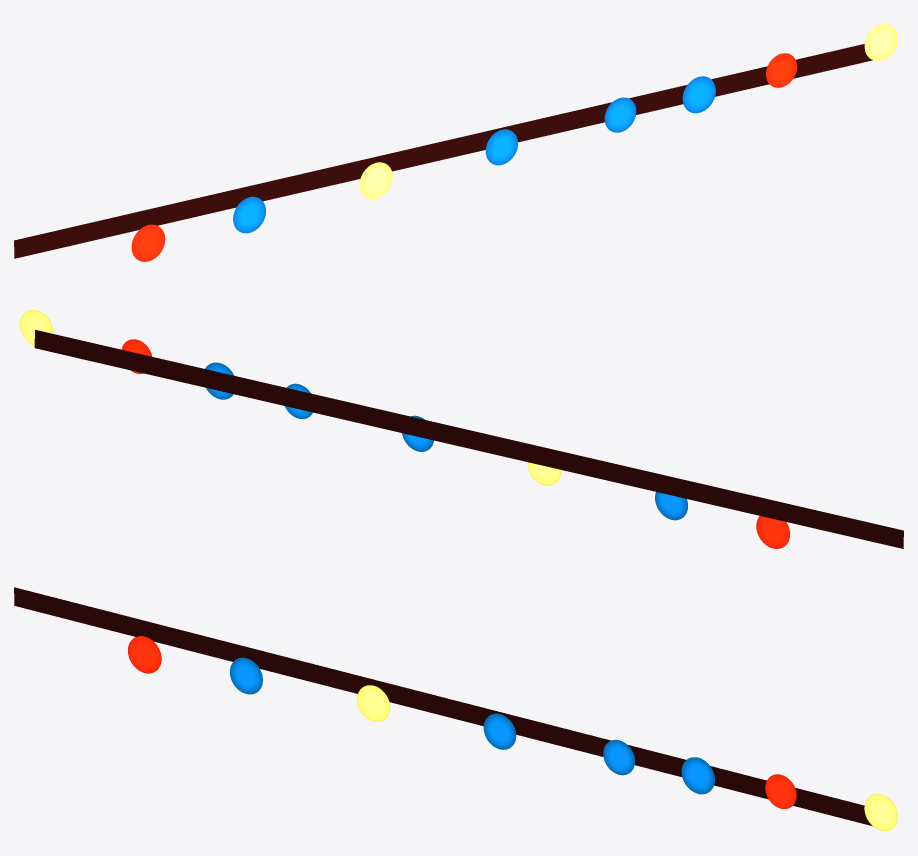
Rendered from Lights01_Art.fbx.
The picture shows the model from 3 angles, top to bottom: view 1: azimuth 30°, elevation 25°; view 2: azimuth 150°, elevation 25°; view 3: azimuth 330°, elevation 25°; orthographic projection.
Visible parts, largest first — view 1: Lights01_Art; view 2: Lights01_Art; view 3: Lights01_Art.
Part boxes in pixels (<box>): Lights01_Art: <box>14,24,897,261</box>; Lights01_Art: <box>20,310,903,548</box>; Lights01_Art: <box>14,587,897,830</box>.
Size of the model in its own units: 2.97 by 0.2186 by 0.0124.
